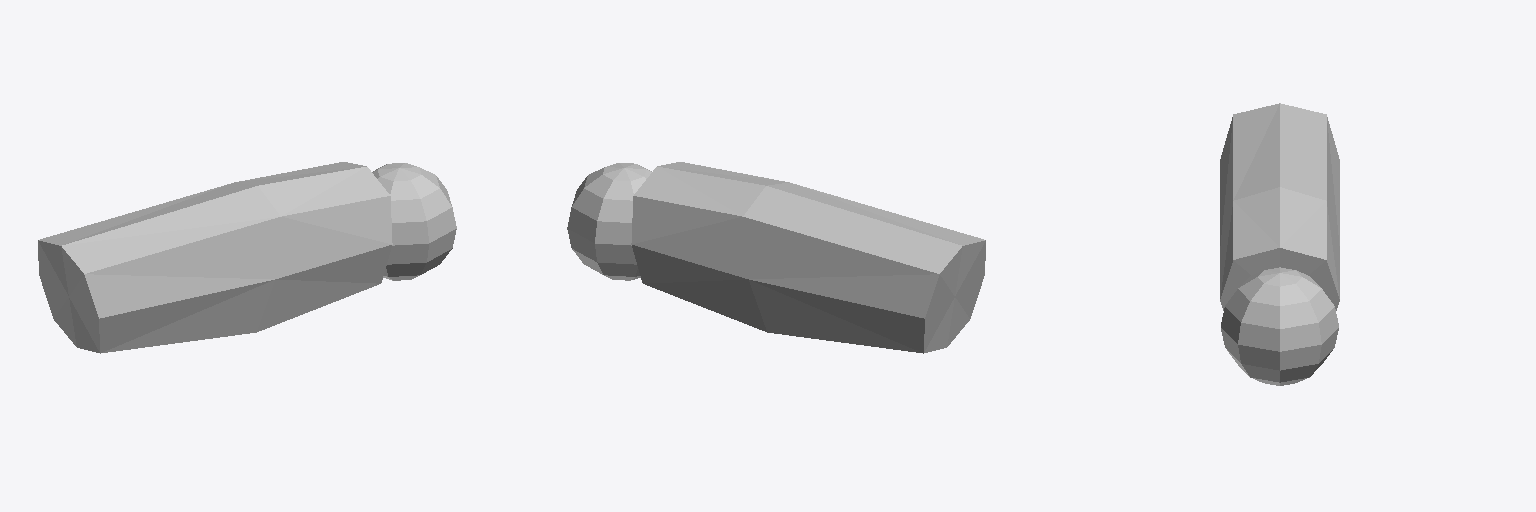
File: right_upper_arm.obj
3 renders of one model, left to right at view 1: azimuth 30°, elevation 25°; view 2: azimuth 150°, elevation 25°; view 3: azimuth 270°, elevation 25°, orthographic.
Parts seen in each view (by area): view 1: Right_Upper_Arm.001_Cube.016; view 2: Right_Upper_Arm.001_Cube.016; view 3: Right_Upper_Arm.001_Cube.016.
Boxes of the visible parts, x1=… form: Right_Upper_Arm.001_Cube.016: x1=38, y1=162, x2=456, y2=353; Right_Upper_Arm.001_Cube.016: x1=567, y1=162, x2=985, y2=353; Right_Upper_Arm.001_Cube.016: x1=1220, y1=103, x2=1339, y2=385.
Bounding box in the file's own units: 0.666 × 0.228 × 0.1773.